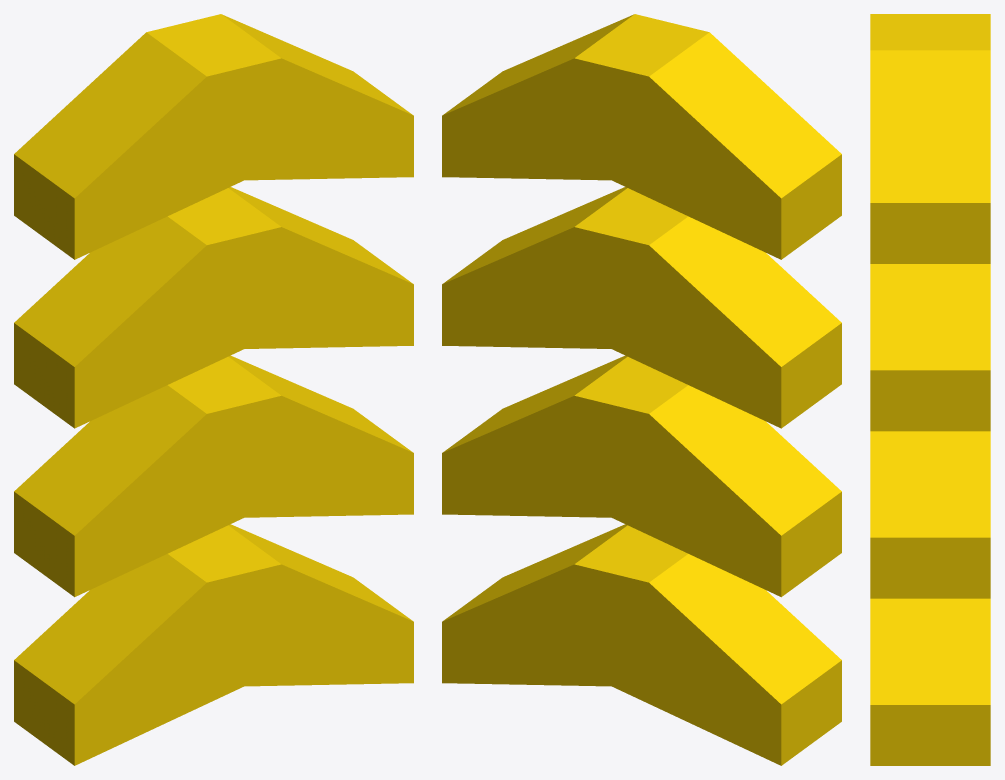
The model's file is SpeedUp.fbx.
The picture shows the model from 3 angles, left to right: view 1: azimuth 30°, elevation 25°; view 2: azimuth 150°, elevation 25°; view 3: azimuth 270°, elevation 25°; orthographic projection.
Parts seen in each view (by area): view 1: Cloner_1; view 2: Cloner_1; view 3: Cloner_1.
Part boxes in pixels (x1=…): Cloner_1: x1=14, y1=14, x2=413, y2=765; Cloner_1: x1=442, y1=14, x2=841, y2=765; Cloner_1: x1=870, y1=14, x2=990, y2=765.
Bounding box in the file's own units: 200 × 370 × 61.87.
